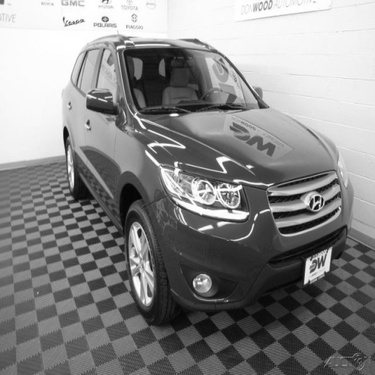car: (47, 23, 358, 332)
